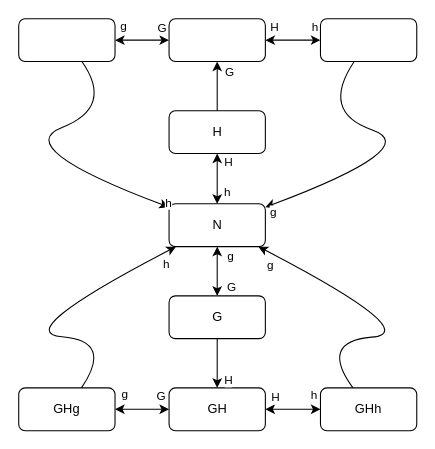
The diagram is 435 pixels wide and 449 high, and some of its shapes have lost their labels. Each missing label, with the centre of its shape:
HG: (x=216, y=40)
HGg: (x=66, y=40)
HGh: (x=368, y=40)
